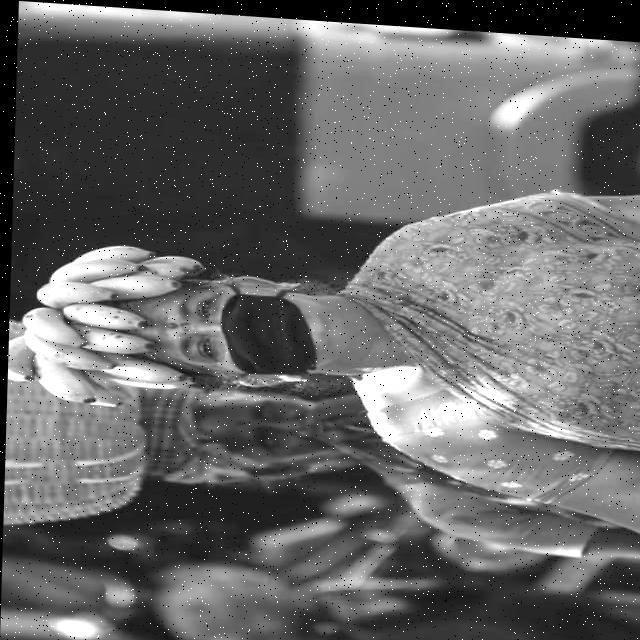mask: (224, 278, 320, 378)
no_gloves: (0, 228, 185, 427)
